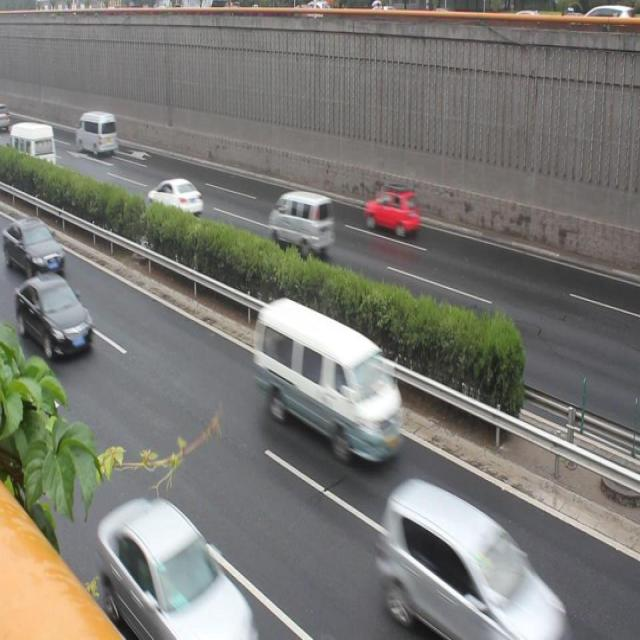car: (378, 479, 568, 640), (95, 488, 255, 640), (19, 276, 94, 356), (8, 215, 64, 280), (362, 182, 422, 240), (147, 171, 202, 226)
truck: (249, 296, 399, 459), (267, 185, 338, 258), (1, 121, 58, 174), (75, 107, 121, 163)
